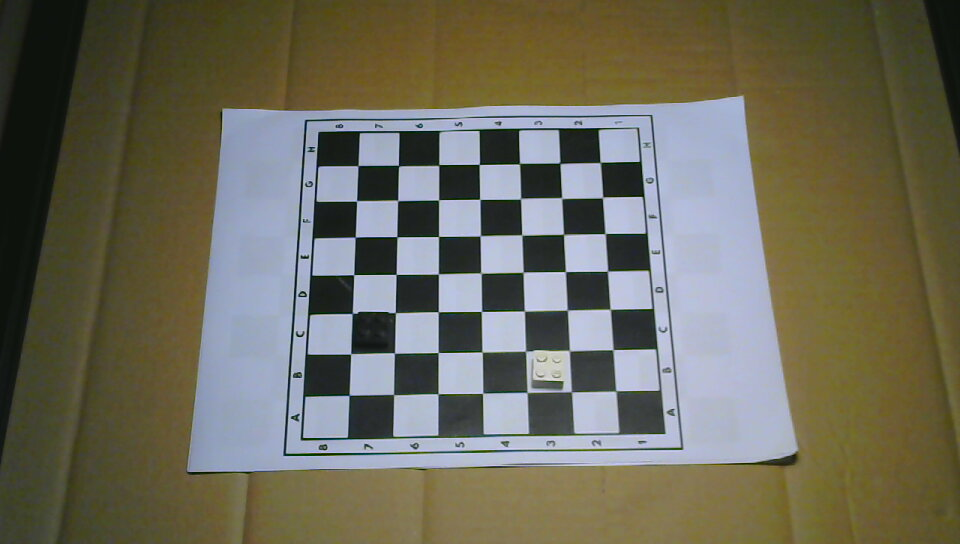bp: (355, 311, 390, 350)
wp: (530, 348, 565, 388)
